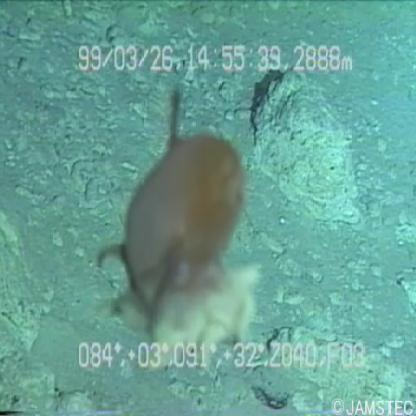Bio: (91, 83, 265, 373)
